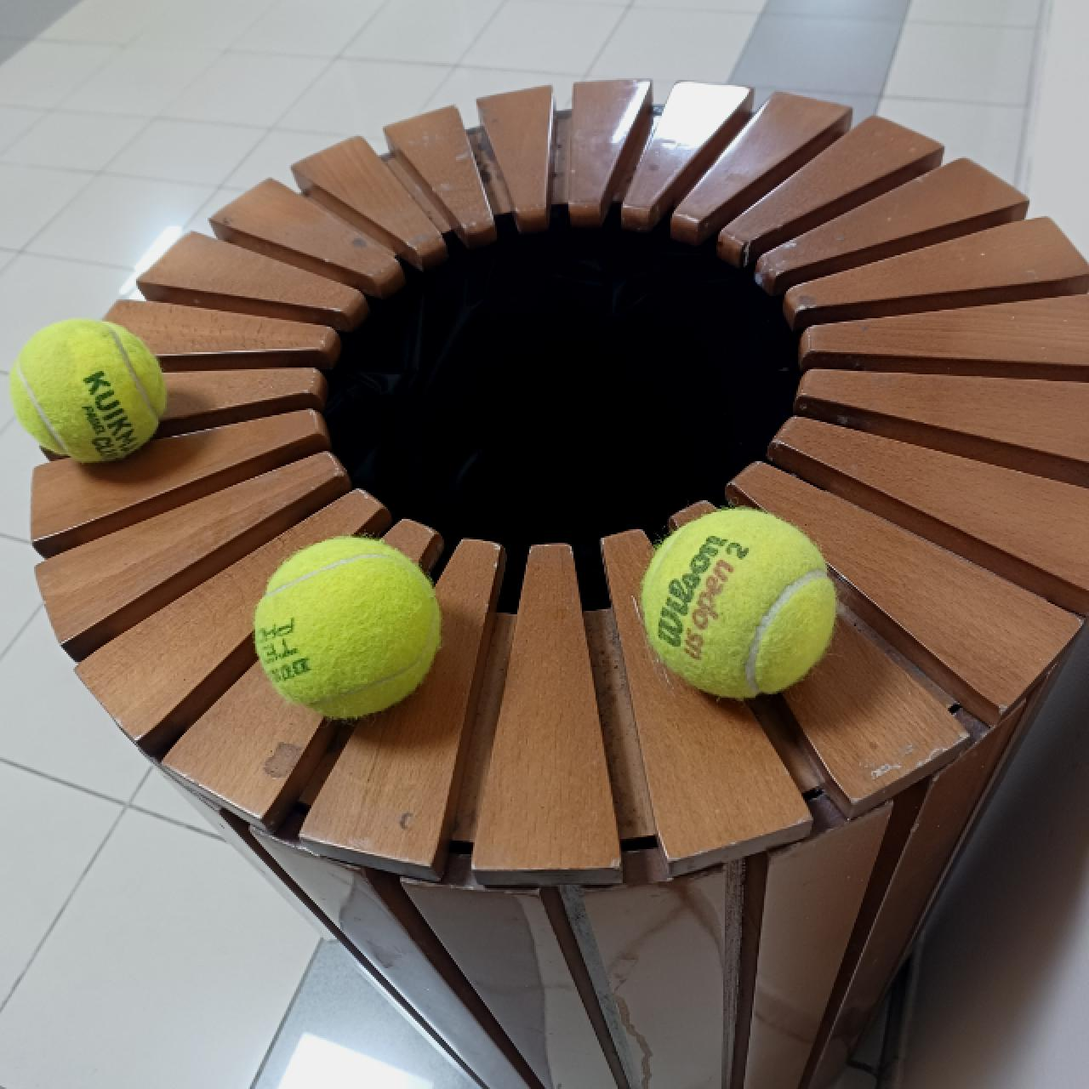tennis-ball: (640, 504, 839, 702), (252, 532, 444, 721), (9, 318, 169, 464)
